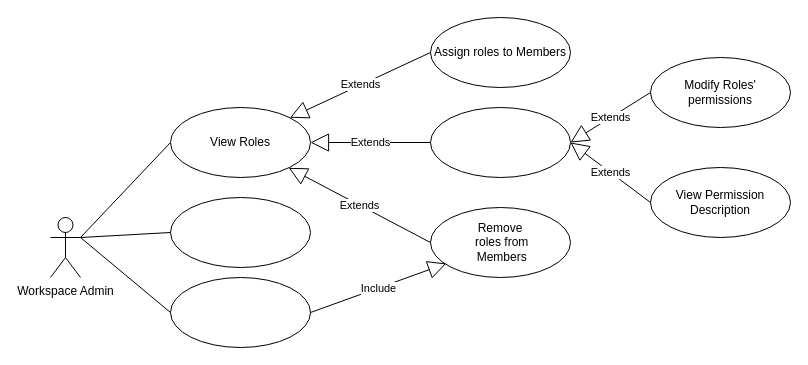
Image size: 808x365. Some labels were removed from this diagram. The centre of each missing label's shape, as x and y in pixels:
"Create Roles" belongs at point 240,232.
"Delete Roles" belongs at point 240,312.
"View Role's Permission" belongs at point 500,142.
